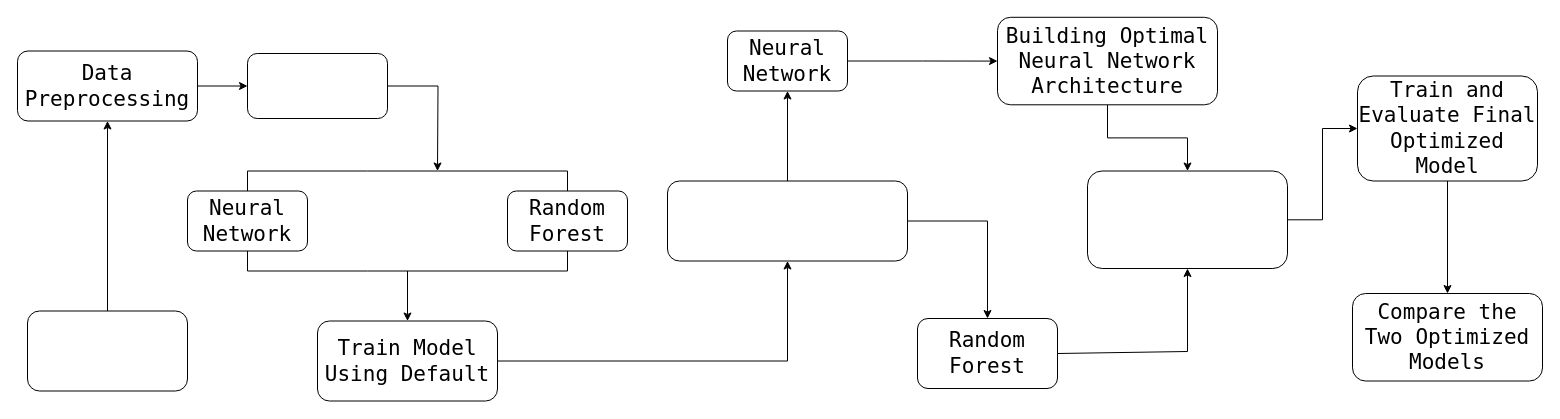
Some shapes in this 1560 by 419 pixel diagram are drawn without their labels. The centre of each missing label's shape, as x and y in pixels:
"Appropriate Packages" goes at (107,350).
"Evaluate and Compare Default Model Performances" goes at (787,220).
"Fine-tuning Hyperparameters" goes at (1187,219).
"Train/Test Split" goes at (317,85).
